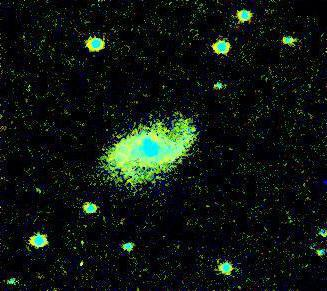star: (51, 240, 81, 270)
